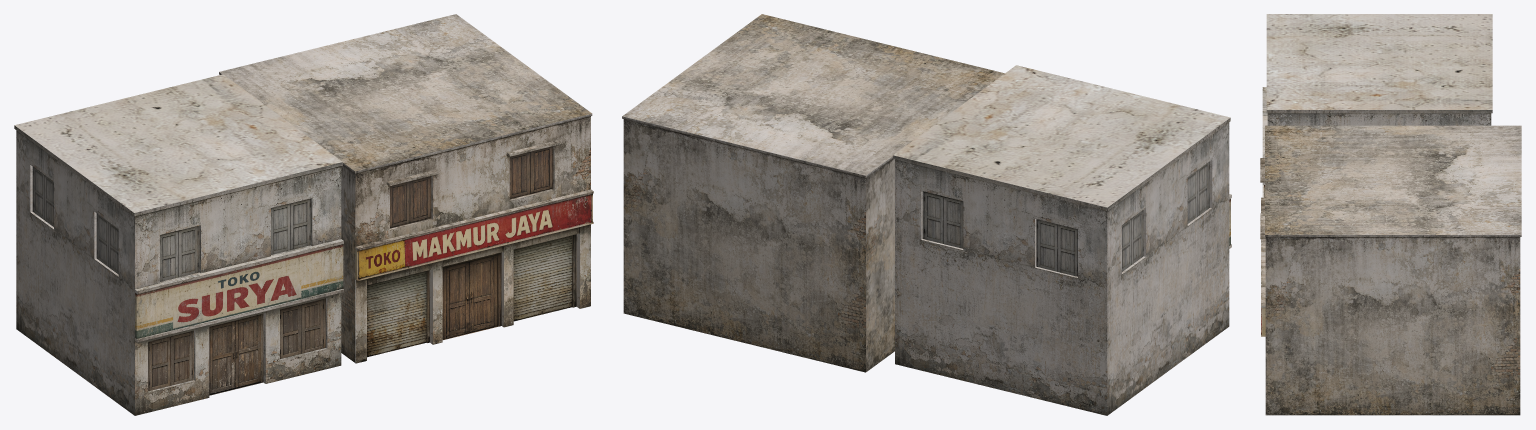
3 views of the same model, side by side, from view 1: azimuth 30°, elevation 25°; view 2: azimuth 150°, elevation 25°; view 3: azimuth 270°, elevation 25° (orthographic). The views are drawn at different scales.
Visible parts, largest first — view 1: Toko Surya, Toko makmur jaya, Cube.001, Cube; view 2: Toko Surya, Toko makmur jaya, Cube.001, Cube; view 3: Toko makmur jaya, Cube.001, Cube, Toko Surya.
Part boxes in pixels (x1,y1,x2,y2): Toko Surya: (16, 130, 343, 415); Toko makmur jaya: (341, 116, 593, 363); Cube.001: (219, 14, 592, 173); Cube: (14, 74, 342, 216); Toko Surya: (895, 122, 1231, 415); Toko makmur jaya: (623, 119, 894, 372); Cube.001: (622, 14, 1004, 177); Cube: (893, 65, 1230, 211); Toko makmur jaya: (1260, 158, 1520, 415); Cube.001: (1265, 125, 1521, 236); Cube: (1266, 14, 1492, 113); Toko Surya: (1262, 87, 1491, 197).
Size of the model in its own units: 13.08 by 5.58 by 6.87.
4 materials, 4 textured.
